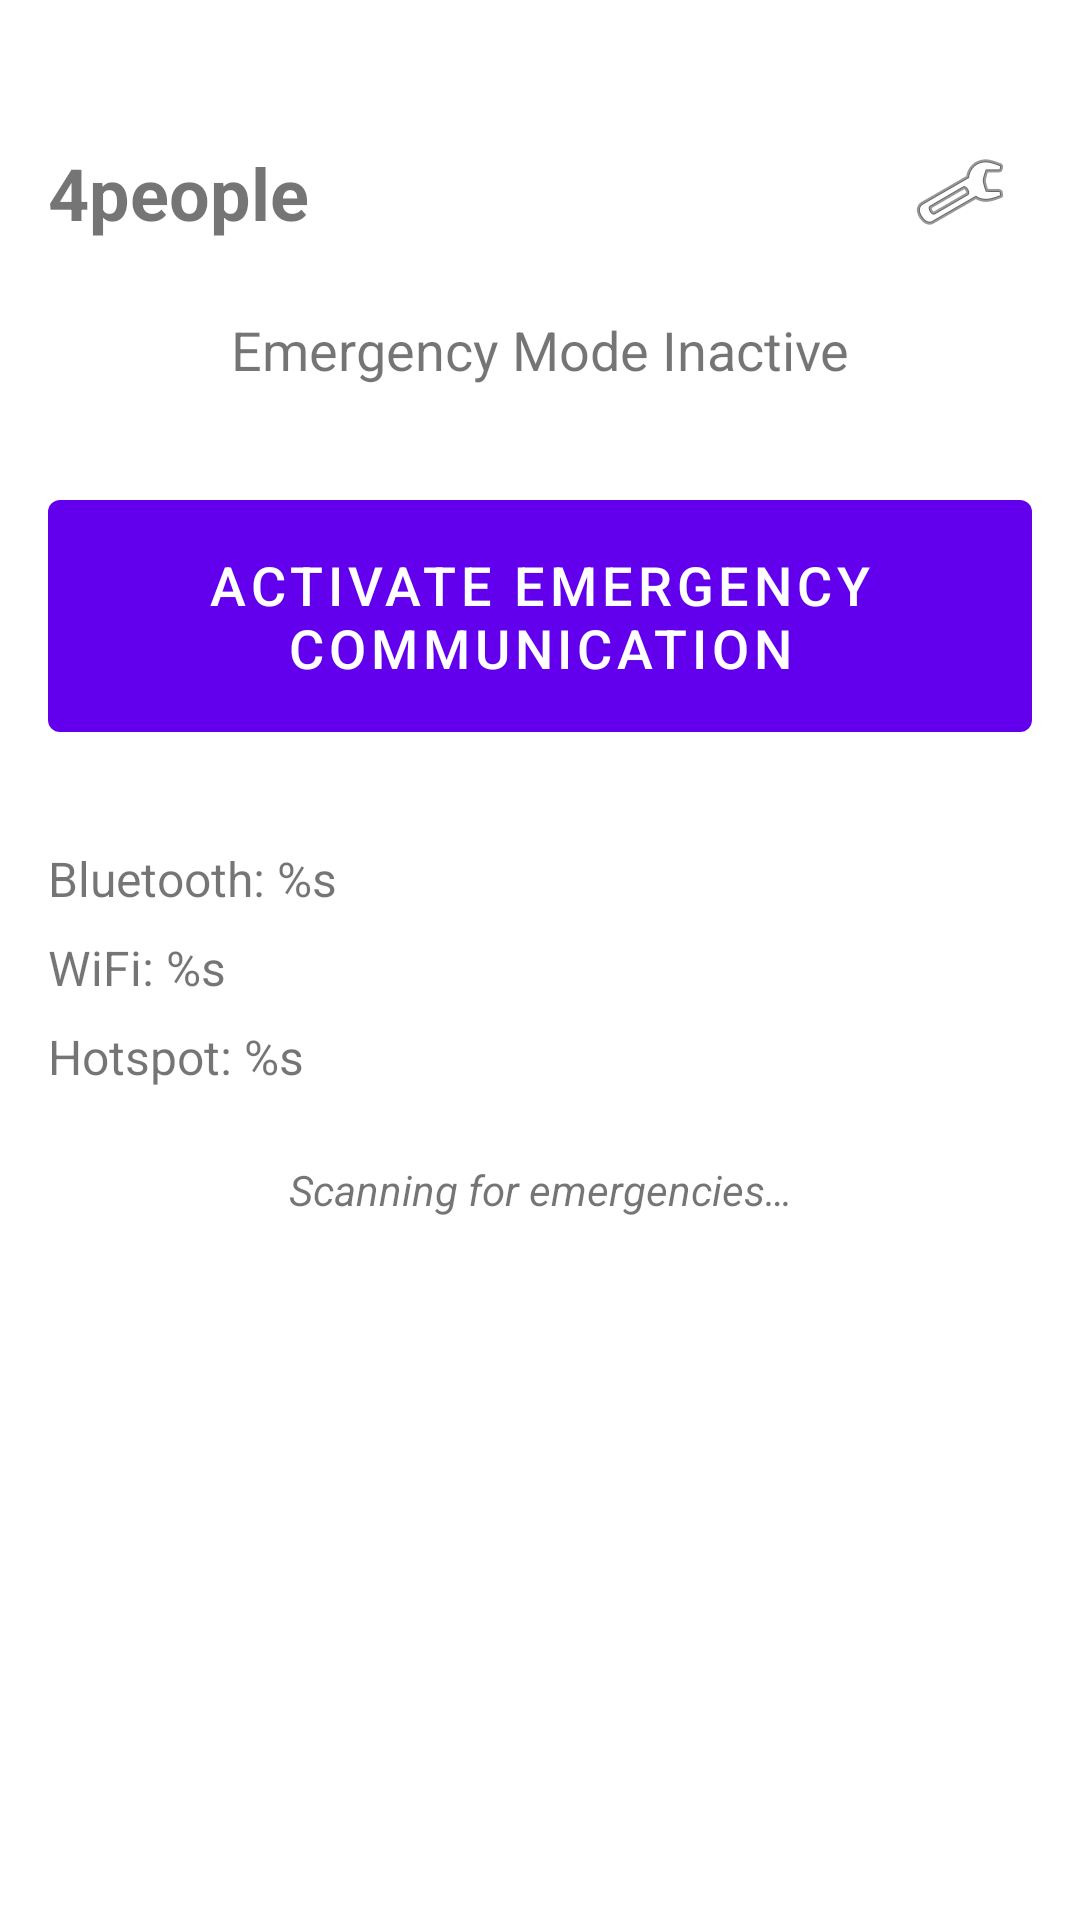

Where icons sit on this 1080 x 1920 app screen, as (x1,y1,x2,y2):
Settings: (917,159,1003,225)
